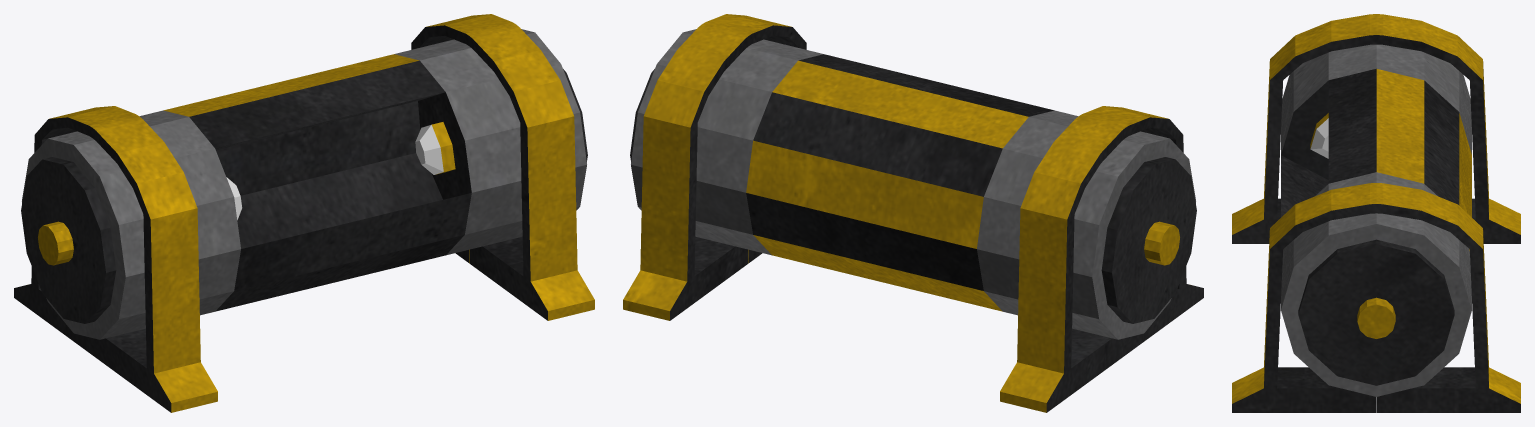
The model's file is Machine3.fbx.
3 renders of one model, left to right at view 1: azimuth 30°, elevation 25°; view 2: azimuth 150°, elevation 25°; view 3: azimuth 270°, elevation 25°, orthographic. The views are drawn at different scales.
Parts seen in each view (by area): view 1: MachineBattery; view 2: MachineBattery; view 3: MachineBattery.
Boxes of the visible parts, x1,y1,x2,y2 form: MachineBattery: (14,14,594,412); MachineBattery: (623,14,1203,412); MachineBattery: (1232,14,1520,412).
Bounding box in the file's own units: 350 × 148 × 186.
Materials: 2 (1 with a texture image).
